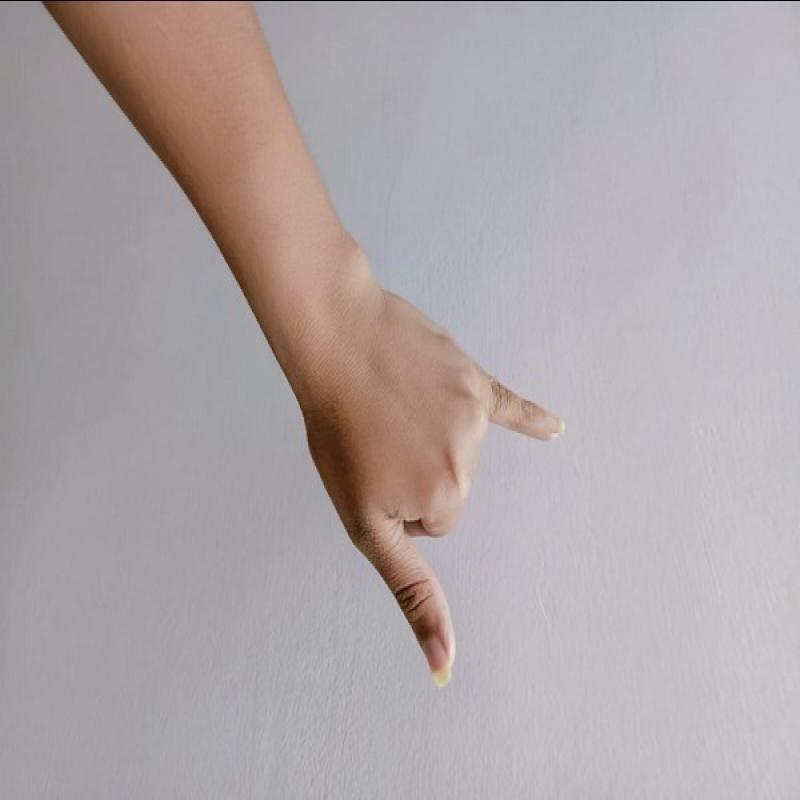Kartharee Mukham: (291, 231, 574, 690)
